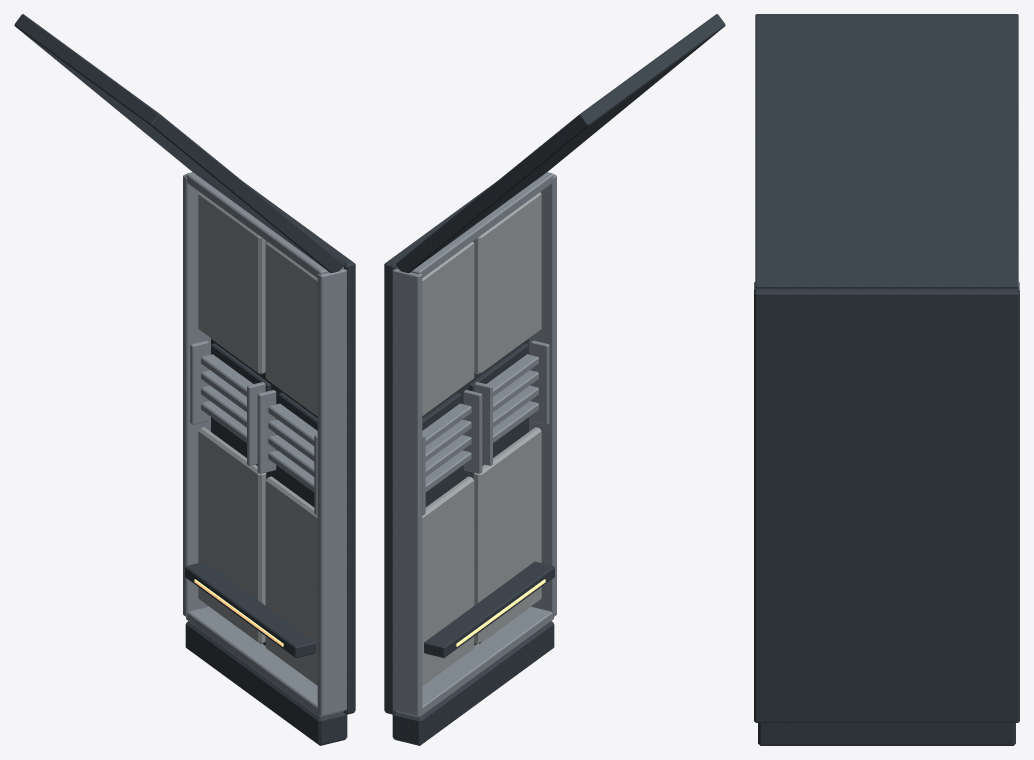
The model's file is NA_GalleryPanel_A_LOD1.fbx.
3 renders of one model, left to right at view 1: azimuth 30°, elevation 25°; view 2: azimuth 150°, elevation 25°; view 3: azimuth 270°, elevation 25°, orthographic. The views are drawn at different scales.
Parts seen in each view (by area): view 1: NA_GalleryPanel_A_LOD1; view 2: NA_GalleryPanel_A_LOD1; view 3: NA_GalleryPanel_A_LOD1.
Boxes of the visible parts, left/top/right/bottom form: NA_GalleryPanel_A_LOD1: left=14, top=14, right=355, bottom=745; NA_GalleryPanel_A_LOD1: left=384, top=14, right=725, bottom=745; NA_GalleryPanel_A_LOD1: left=754, top=14, right=1019, bottom=745.
Bounding box in the file's own units: 4.58 × 14.43 × 5.4.
